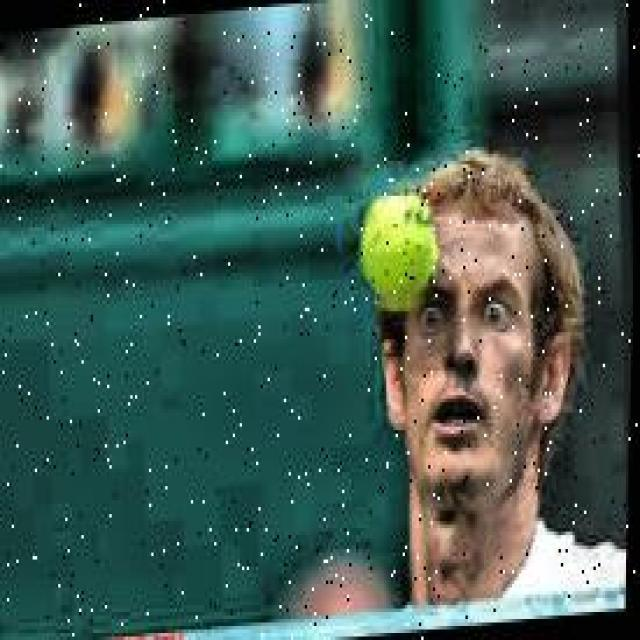tennis-ball: (357, 194, 439, 313)
